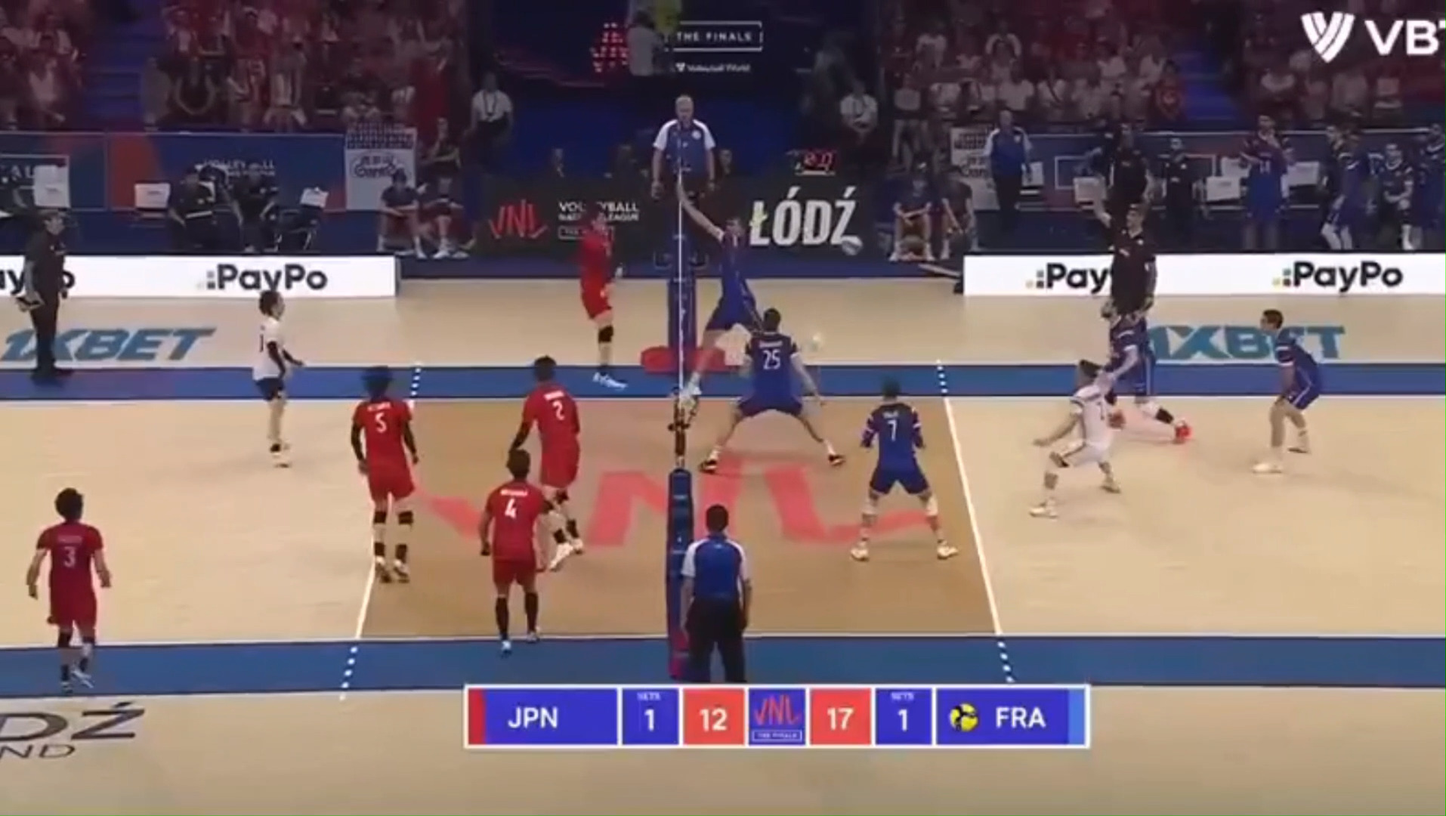ball: (839, 236, 862, 255)
player: (683, 201, 843, 472), (1029, 249, 1191, 516), (1030, 304, 1191, 517), (850, 380, 958, 562), (851, 380, 938, 561), (702, 334, 811, 472), (680, 199, 762, 352), (1252, 309, 1323, 474), (1252, 310, 1321, 474), (683, 365, 703, 407)
player 1: (26, 487, 110, 692), (510, 355, 585, 568), (478, 449, 553, 655), (350, 366, 418, 583), (252, 289, 304, 466), (578, 208, 625, 389)
referee: (680, 505, 751, 682), (16, 211, 70, 383), (651, 94, 715, 202), (1095, 203, 1154, 319)
